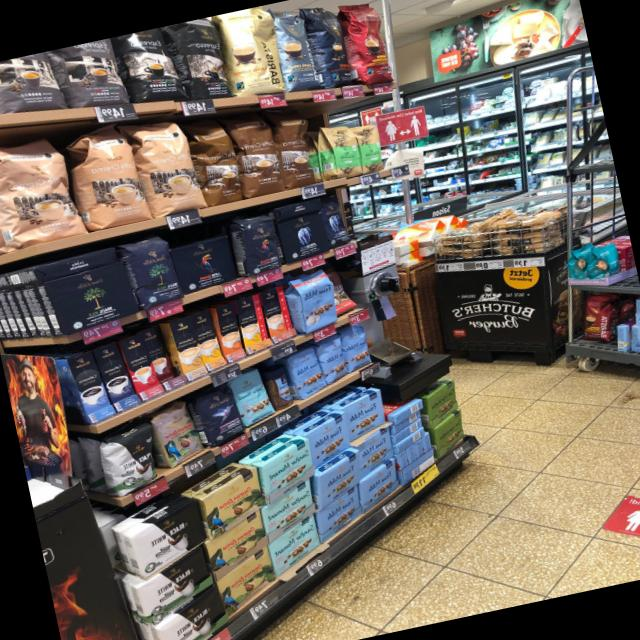AB Bohne: (316, 198, 351, 248)
AB Gemahlen: (274, 210, 331, 264)
Athiopien Gemahlen: (310, 118, 366, 182), (352, 120, 387, 174)
BM Gemahlen: (44, 260, 140, 338)
BW Bohne: (94, 422, 164, 501), (122, 232, 183, 314)
BW Gemahlen: (133, 543, 216, 627), (129, 498, 206, 578), (156, 584, 230, 640)
Barista CB: (212, 3, 290, 103)
Barista CC: (267, 6, 321, 94)
Barista Espresso: (297, 0, 354, 91)
Barista Kolumbien: (334, 0, 397, 90)
C Fino Bohne: (190, 382, 247, 450)
CC Mild: (0, 129, 85, 257), (62, 118, 152, 235), (126, 112, 208, 220)
CC Vollmundig 36 Pads: (186, 118, 246, 208), (230, 114, 285, 198), (270, 108, 320, 192)
Colombia BB Bohne: (148, 398, 206, 470)
Colombia BB Gemahlen: (203, 508, 269, 583), (201, 465, 265, 541), (215, 544, 278, 617)
Espresso Kraftig: (164, 15, 233, 108), (111, 25, 185, 106)
Espresso M Art: (46, 36, 132, 121)
FM 36 Pads: (292, 267, 344, 335)
FM Bohne: (285, 346, 326, 402), (337, 322, 377, 374), (313, 334, 349, 386)
FM Gemahlen: (302, 409, 352, 470), (313, 484, 363, 544), (316, 448, 360, 512), (340, 387, 386, 444), (352, 423, 396, 481), (356, 456, 400, 514)
FM Instant: (261, 356, 296, 411)
Herzhatfe Mundig: (425, 377, 461, 429), (431, 407, 465, 459)
LG Bohne: (228, 210, 284, 278)
LG Gemahlen: (169, 233, 240, 296)
SM Bohne: (230, 366, 277, 430)
SM Gemahlen: (266, 512, 321, 579), (260, 478, 315, 544), (261, 438, 314, 503)
Simo CCMild: (233, 291, 272, 355)
Simo CCMild bigpack: (187, 308, 227, 374)
Simo CCVollmundig: (257, 283, 297, 345)
Simo CCVollmundig bigpack: (213, 300, 246, 364)
Simo Decaff: (168, 316, 207, 381)
Simo Es Elegant: (119, 333, 166, 402)
Simo Es Kraft: (137, 324, 176, 383)
Simo Kaffee Kraft: (91, 340, 139, 411)
Simo Kaffee Mild: (65, 350, 115, 425)
